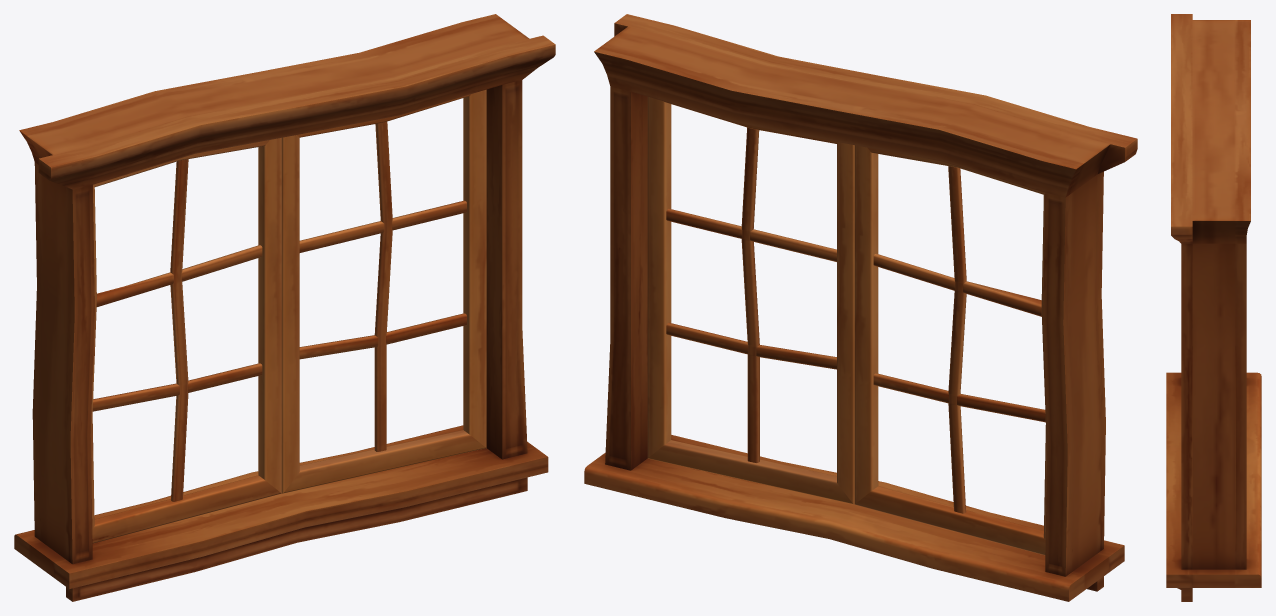
File: PropWindow01TypeB_2_1.FBX
3 renders of one model, left to right at view 1: azimuth 30°, elevation 25°; view 2: azimuth 150°, elevation 25°; view 3: azimuth 270°, elevation 25°, orthographic. The views are drawn at different scales.
Visible parts, largest first — view 1: PropWindow01TypeB_2_1; view 2: PropWindow01TypeB_2_1; view 3: PropWindow01TypeB_2_1.
Boxes of the visible parts, box(x1,y1,x2,y2) form: PropWindow01TypeB_2_1: box(14, 14, 555, 601); PropWindow01TypeB_2_1: box(584, 14, 1137, 601); PropWindow01TypeB_2_1: box(1166, 14, 1261, 601).
Size of what is drawn, in the model's own units: 2.35 by 2.01 by 0.4449.
